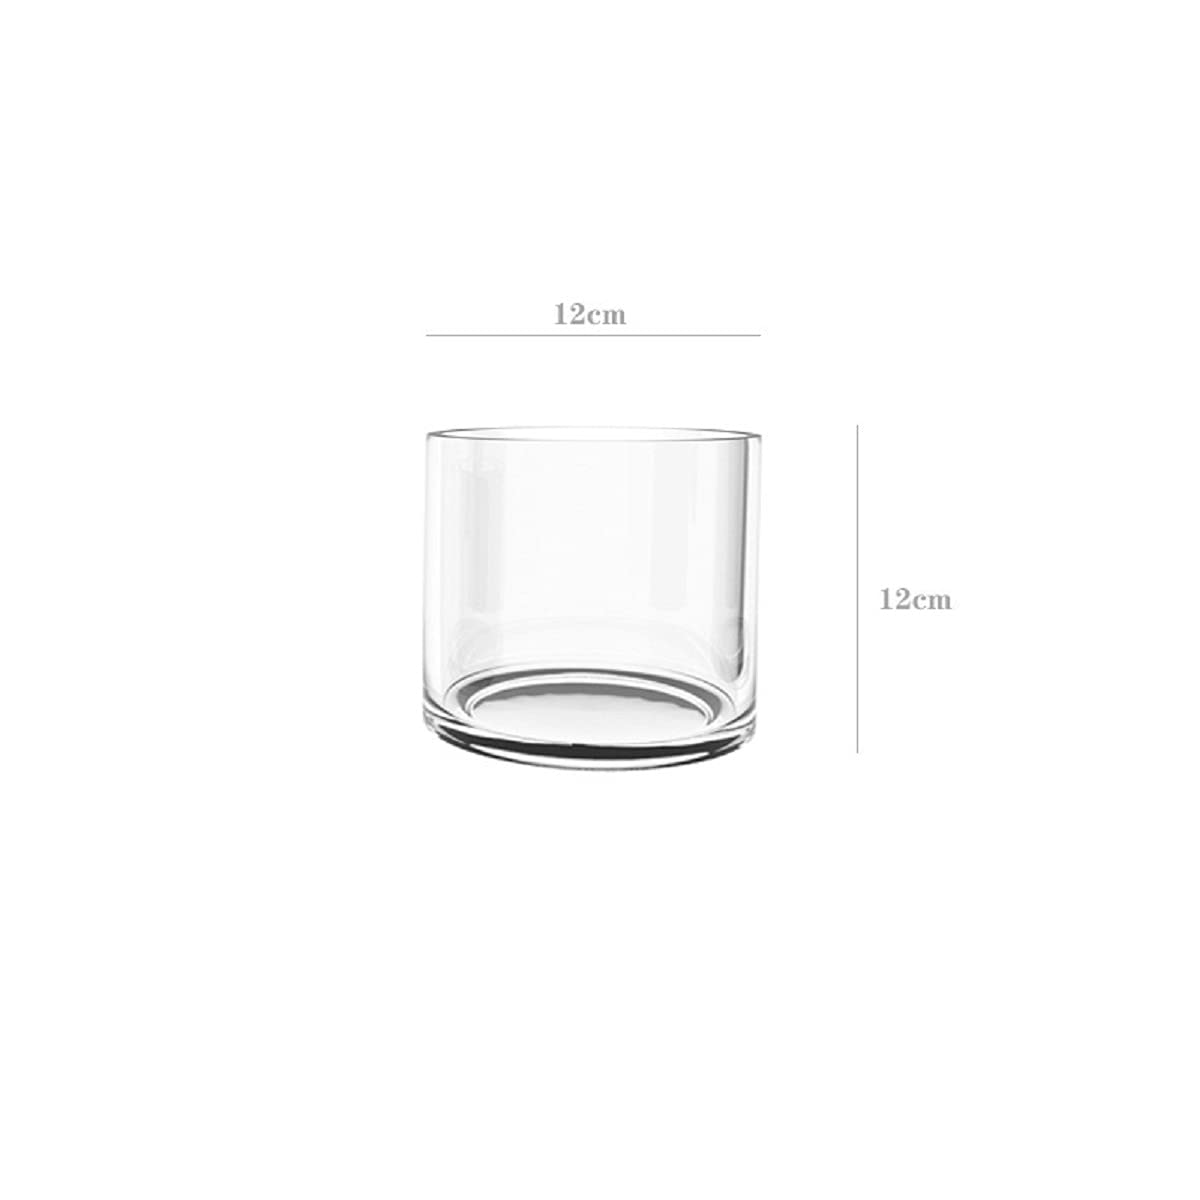12cm: (557, 303, 625, 324), (882, 588, 951, 609)
